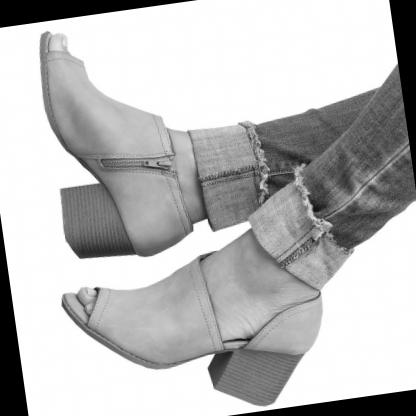ankle: (155, 161, 163, 170), (262, 284, 269, 291)
heel: (297, 346, 304, 354), (140, 249, 145, 254)
left_foot: (34, 15, 197, 269)
pinky: (110, 334, 119, 341), (72, 61, 78, 66)
right_foot: (55, 236, 335, 416)
toe: (52, 40, 59, 47), (86, 293, 92, 298)
